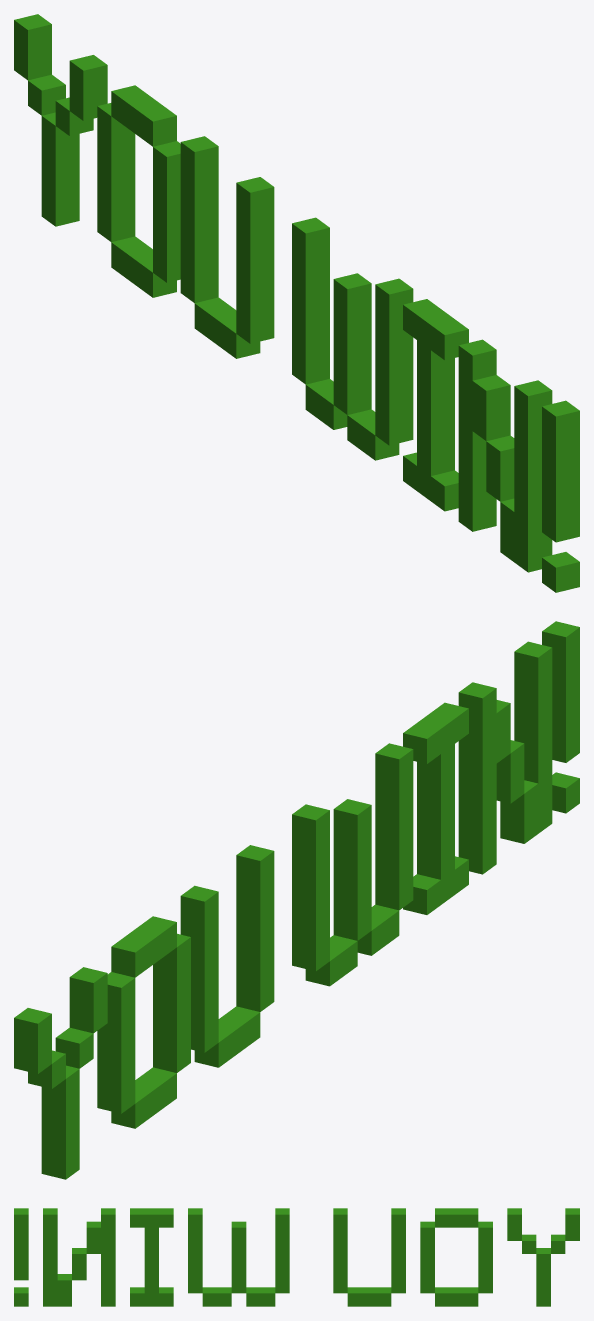
The model's file is YpuWinText.obj.
3 views of the same model, one above another, from view 1: azimuth 30°, elevation 25°; view 2: azimuth 150°, elevation 25°; view 3: azimuth 270°, elevation 25° (orthographic). The views are drawn at different scales.
Bounding box in the file's own units: 0.1 × 0.7 × 3.9.
Materials: 1 (1 with a texture image).
